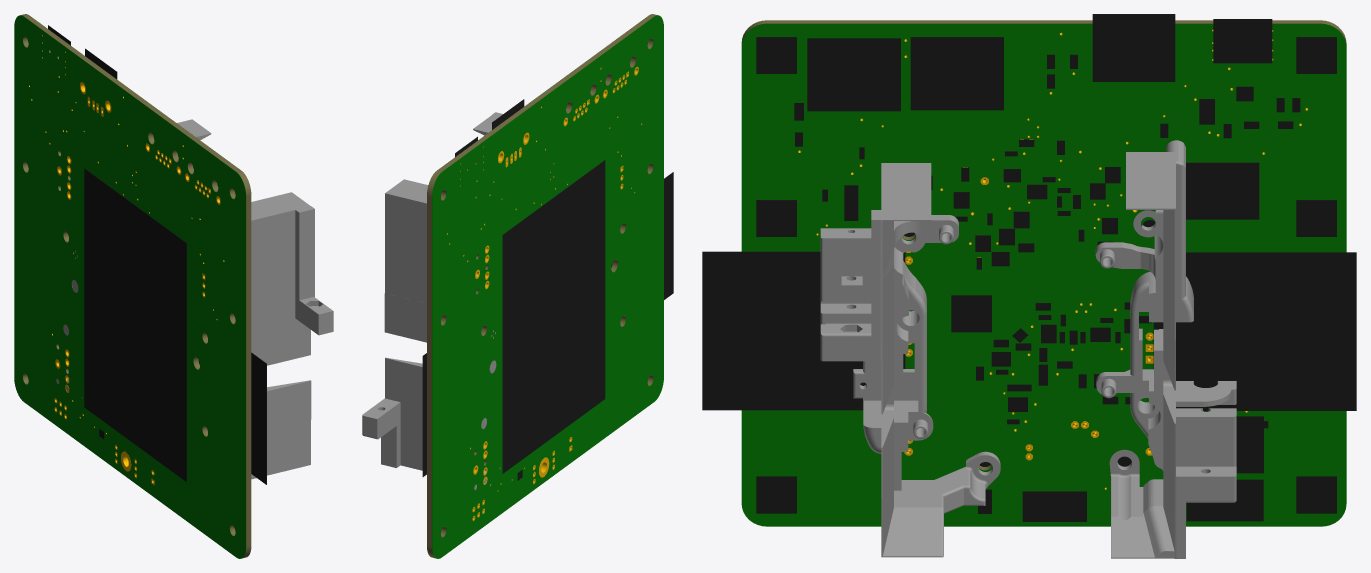
Rendered from UNP_SPL_Redboard_v1.1.fbx.
The picture shows the model from 3 angles, left to right: view 1: azimuth 30°, elevation 25°; view 2: azimuth 150°, elevation 25°; view 3: azimuth 270°, elevation 25°; orthographic projection. The views are drawn at different scales.
Visible parts, largest first — view 1: Body1 (×3), Corpo de malha1 (1) (1) (1), Placa, Body3, CopperHoles, Corpo de malha1; view 2: Body1 (×4), Corpo de malha1, Placa, Body3, CopperHoles; view 3: Body1 (×18), Corpo de malha1 (1) (1) (1), Corpo de malha1, Placa.
Part boxes in pixels (left/top/right/bottom): Body1 (×3): left=14, top=15, right=266, bottom=558; Corpo de malha1 (1) (1) (1): left=251, top=192, right=333, bottom=479; Placa: left=21, top=14, right=251, bottom=558; Body3: left=54, top=82, right=220, bottom=484; CopperHoles: left=29, top=35, right=224, bottom=482; Corpo de malha1: left=56, top=119, right=211, bottom=400; Body1 (×4): left=422, top=15, right=673, bottom=558; Corpo de malha1: left=362, top=179, right=500, bottom=489; Placa: left=427, top=14, right=657, bottom=558; Body3: left=472, top=66, right=638, bottom=520; CopperHoles: left=447, top=68, right=641, bottom=519; Body1 (×18): left=702, top=14, right=1356, bottom=526; Corpo de malha1 (1) (1) (1): left=820, top=163, right=1000, bottom=557; Corpo de malha1: left=1095, top=140, right=1236, bottom=558; Placa: left=741, top=20, right=1346, bottom=470.
Bounding box in the file's own units: 35.88 × 113 × 131.
